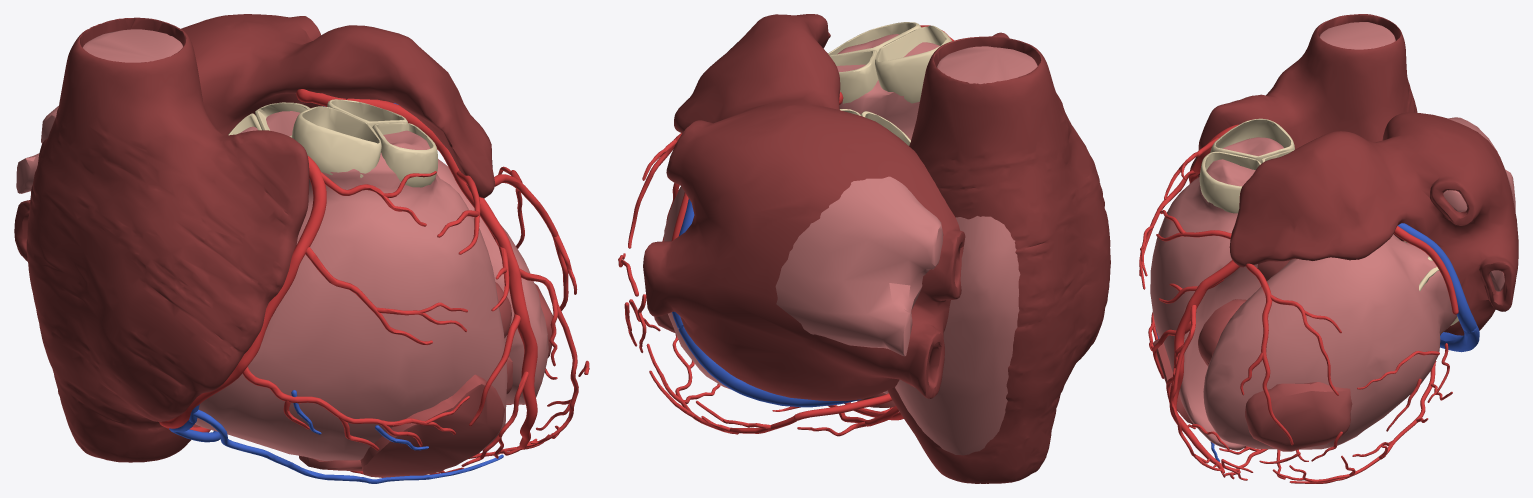
Rendered from heart.glb.
3 views of the same model, side by side, from view 1: azimuth 30°, elevation 25°; view 2: azimuth 150°, elevation 25°; view 3: azimuth 270°, elevation 25° (orthographic). The views are drawn at different scales.
Parts seen in each view (by area): view 1: heart_wall_right_atrium, heart_cavity_right_ventricle, heart_wall_left_atrium, heart_coronary_arteries, heart_papillary_muscles, heart_valve_pulmonary, heart_cavity_left_ventricle, heart_coronary_veins, heart_cavity_right_atrium, heart_cavity_left_atrium, heart_valve_aortic; view 2: heart_wall_left_atrium, heart_wall_right_atrium, heart_cavity_left_atrium, heart_cavity_right_atrium, heart_coronary_arteries, heart_valve_pulmonary, heart_cavity_right_ventricle, heart_coronary_veins, heart_cavity_left_ventricle; view 3: heart_wall_left_atrium, heart_cavity_left_ventricle, heart_wall_right_atrium, heart_cavity_right_ventricle, heart_coronary_arteries, heart_papillary_muscles, heart_valve_pulmonary, heart_coronary_veins, heart_cavity_right_atrium, heart_cavity_left_atrium.
Boxes of the visible parts, left/top/right/bottom form: heart_wall_right_atrium: left=26, top=17, right=309, bottom=462; heart_cavity_right_ventricle: left=195, top=130, right=507, bottom=460; heart_wall_left_atrium: left=14, top=14, right=494, bottom=261; heart_coronary_arteries: left=159, top=89, right=589, bottom=477; heart_papillary_muscles: left=299, top=282, right=554, bottom=477; heart_valve_pulmonary: left=292, top=99, right=437, bottom=187; heart_cavity_left_ventricle: left=240, top=111, right=548, bottom=404; heart_coronary_veins: left=169, top=103, right=503, bottom=483; heart_cavity_right_atrium: left=82, top=29, right=182, bottom=62; heart_cavity_left_atrium: left=16, top=106, right=58, bottom=193; heart_valve_aortic: left=228, top=102, right=310, bottom=137; heart_wall_left_atrium: left=643, top=14, right=965, bottom=401; heart_wall_right_atrium: left=888, top=32, right=1110, bottom=483; heart_cavity_left_atrium: left=775, top=176, right=943, bottom=356; heart_cavity_right_atrium: left=895, top=46, right=1037, bottom=455; heart_coronary_arteries: left=618, top=25, right=953, bottom=436; heart_valve_pulmonary: left=828, top=22, right=951, bottom=103; heart_cavity_right_ventricle: left=836, top=34, right=939, bottom=393; heart_coronary_veins: left=672, top=198, right=860, bottom=407; heart_cavity_left_ventricle: left=663, top=186, right=730, bottom=389; heart_wall_left_atrium: left=1229, top=112, right=1518, bottom=335; heart_cavity_left_ventricle: left=1203, top=234, right=1457, bottom=449; heart_wall_right_atrium: left=1188, top=14, right=1417, bottom=180; heart_cavity_right_ventricle: left=1150, top=137, right=1283, bottom=450; heart_coronary_arteries: left=1139, top=124, right=1458, bottom=483; heart_papillary_muscles: left=1153, top=260, right=1352, bottom=451; heart_valve_pulmonary: left=1199, top=118, right=1294, bottom=213; heart_coronary_veins: left=1155, top=223, right=1479, bottom=461; heart_cavity_right_atrium: left=1319, top=22, right=1395, bottom=49; heart_cavity_left_atrium: left=1443, top=117, right=1515, bottom=291.
Bounding box in the file's own units: 0.1157 × 0.1046 × 0.1063.
